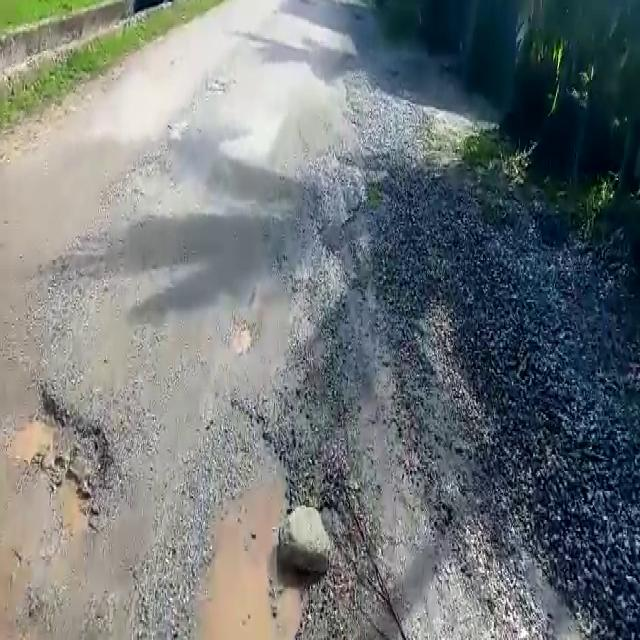Pothole: (186, 445, 309, 640), (5, 387, 111, 538)
